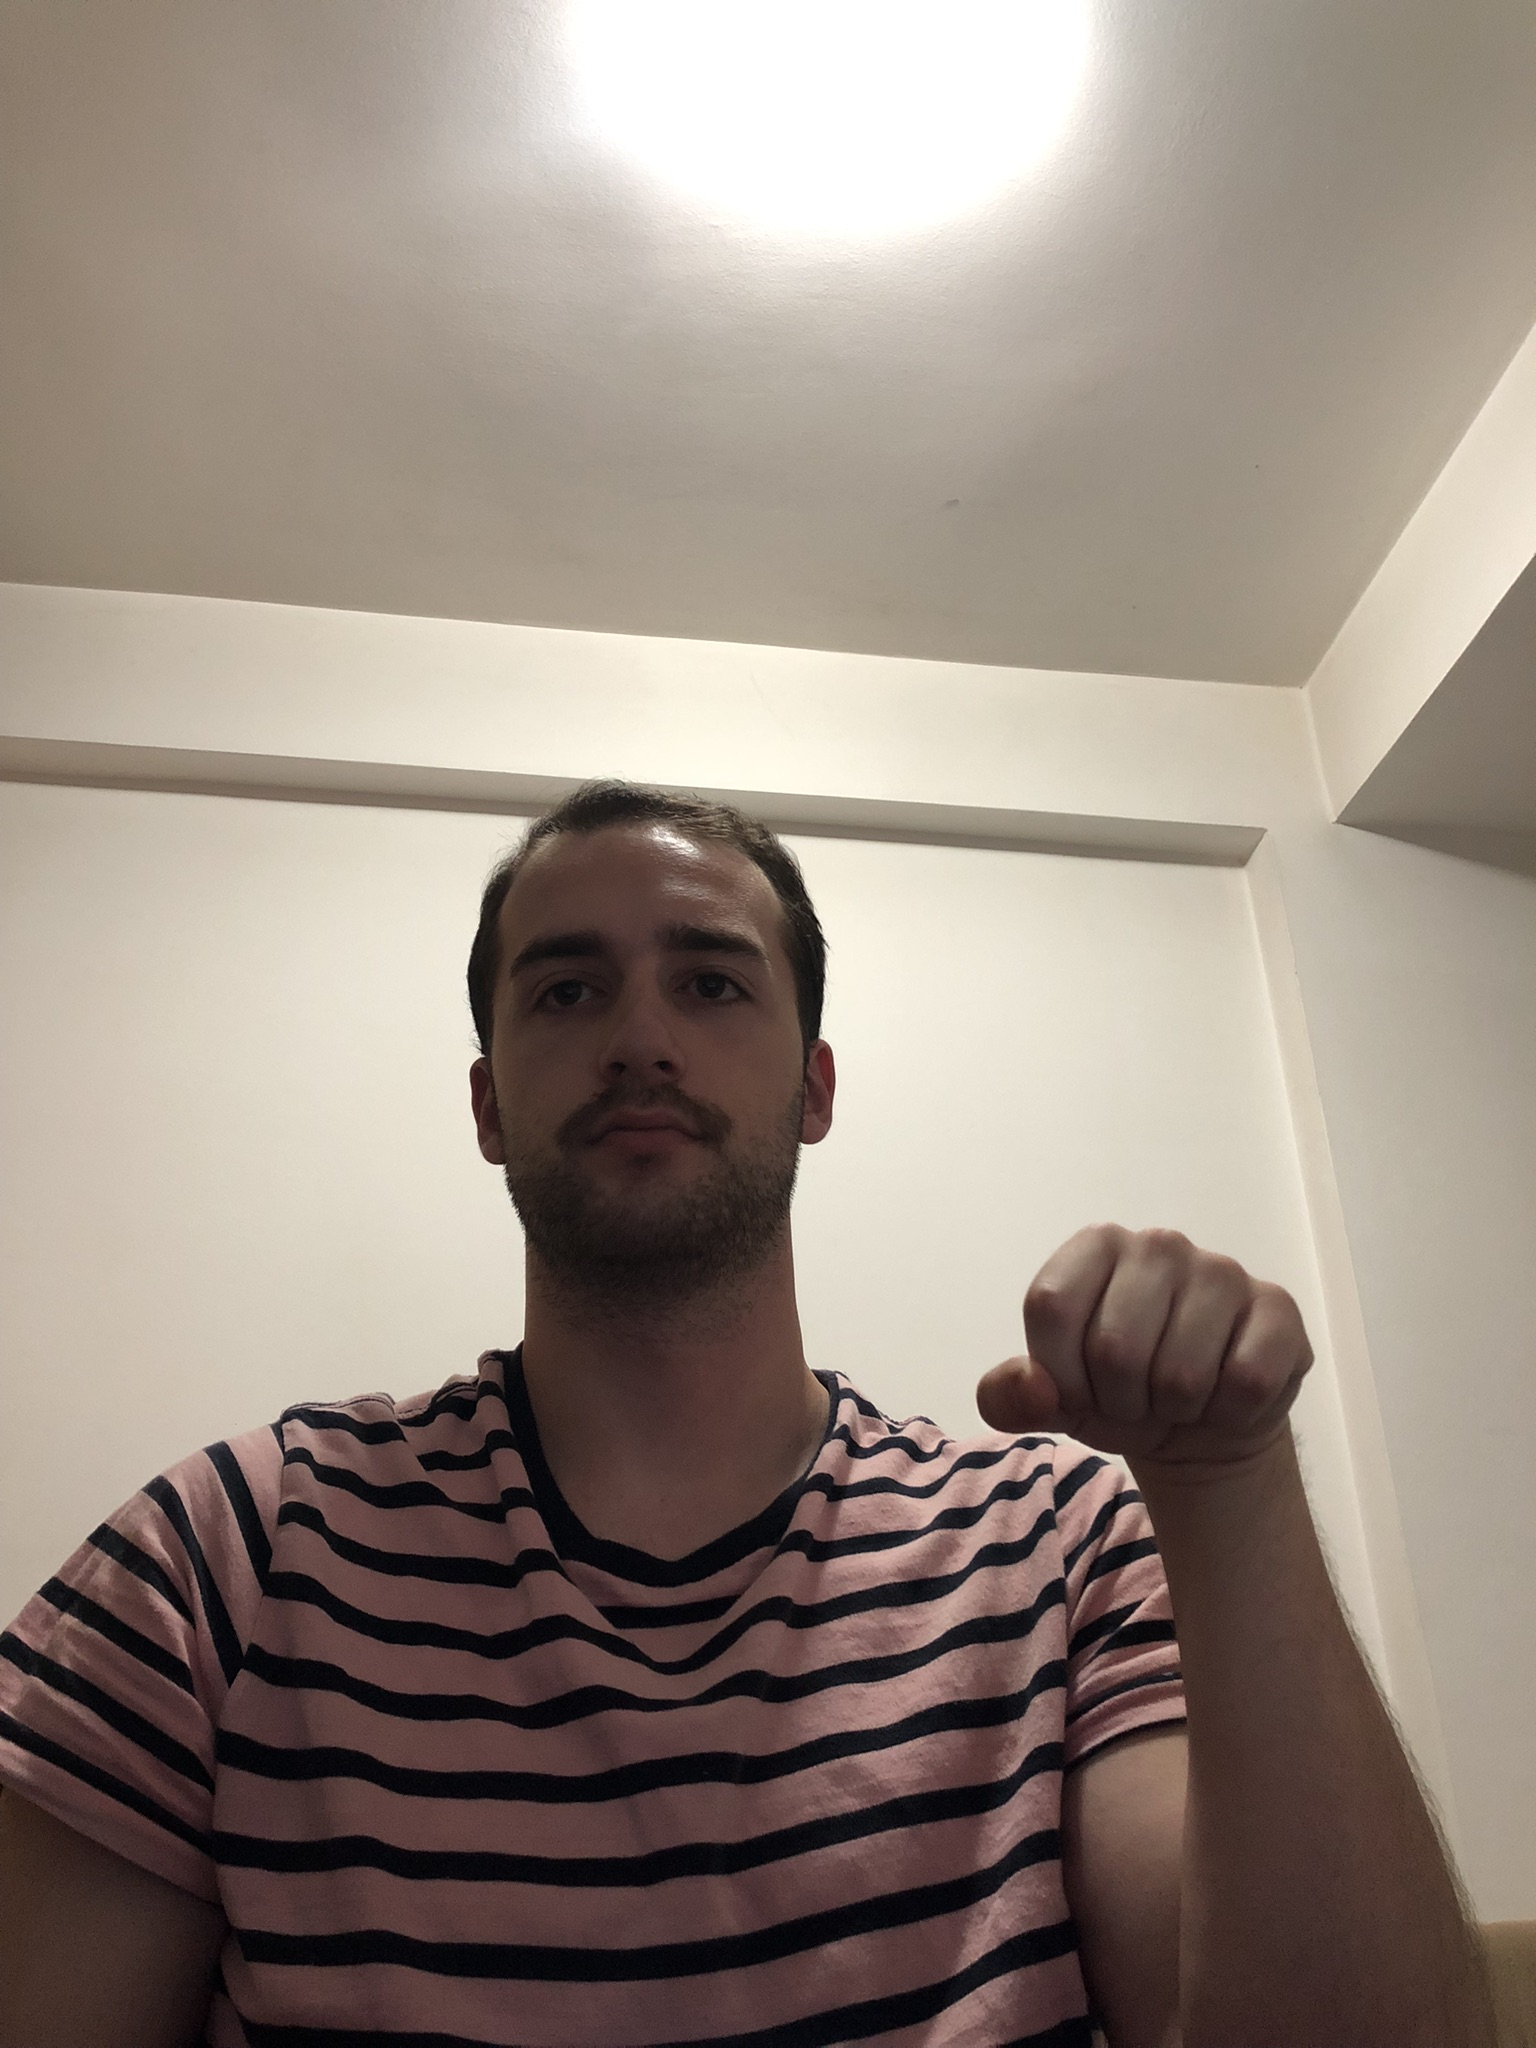Yes: (973, 1216, 1321, 1514)
